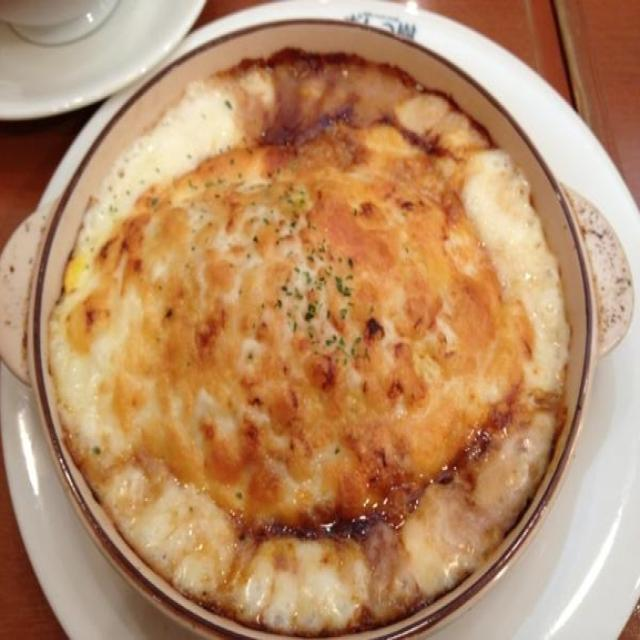米饭主食: (20, 24, 611, 625)
